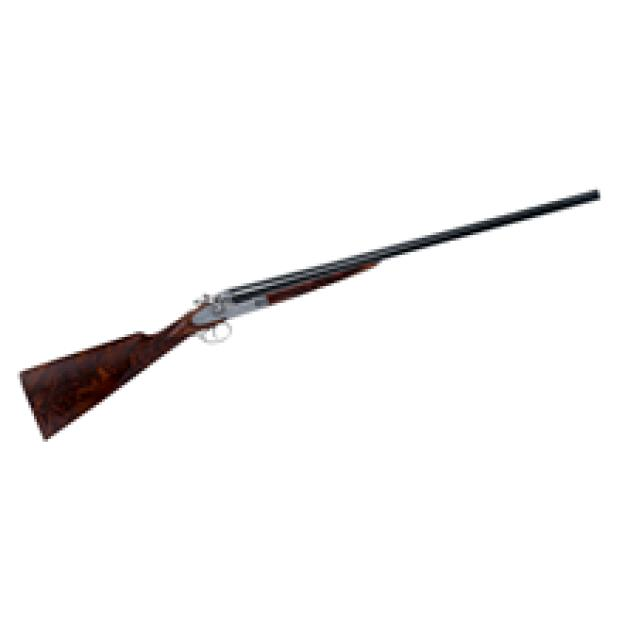rifle: (15, 187, 605, 446)
